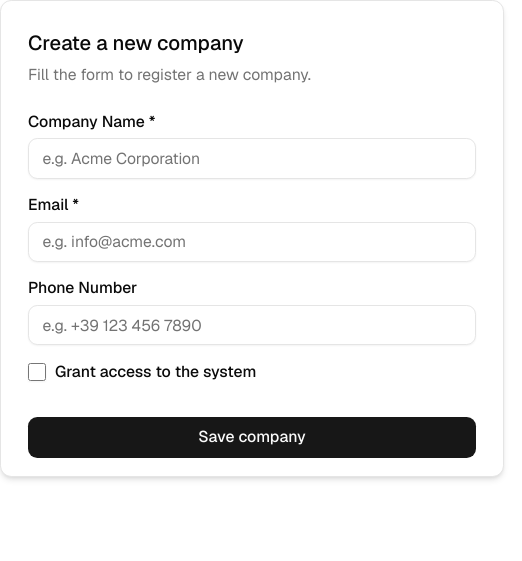
CompanyForm › should display validation errors for required fields
What coordinates should you click on to do the following:
click the button "Save company"
I would click on:
 (252, 438)
Its box is [28, 417, 476, 458].
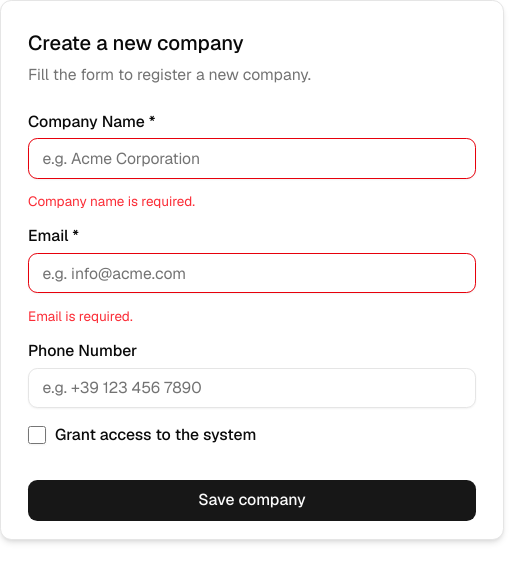
Now the text "Company name is required." is shown, box [28, 192, 195, 210]
Now the text "Email is required." is shown, box [28, 307, 133, 325]
